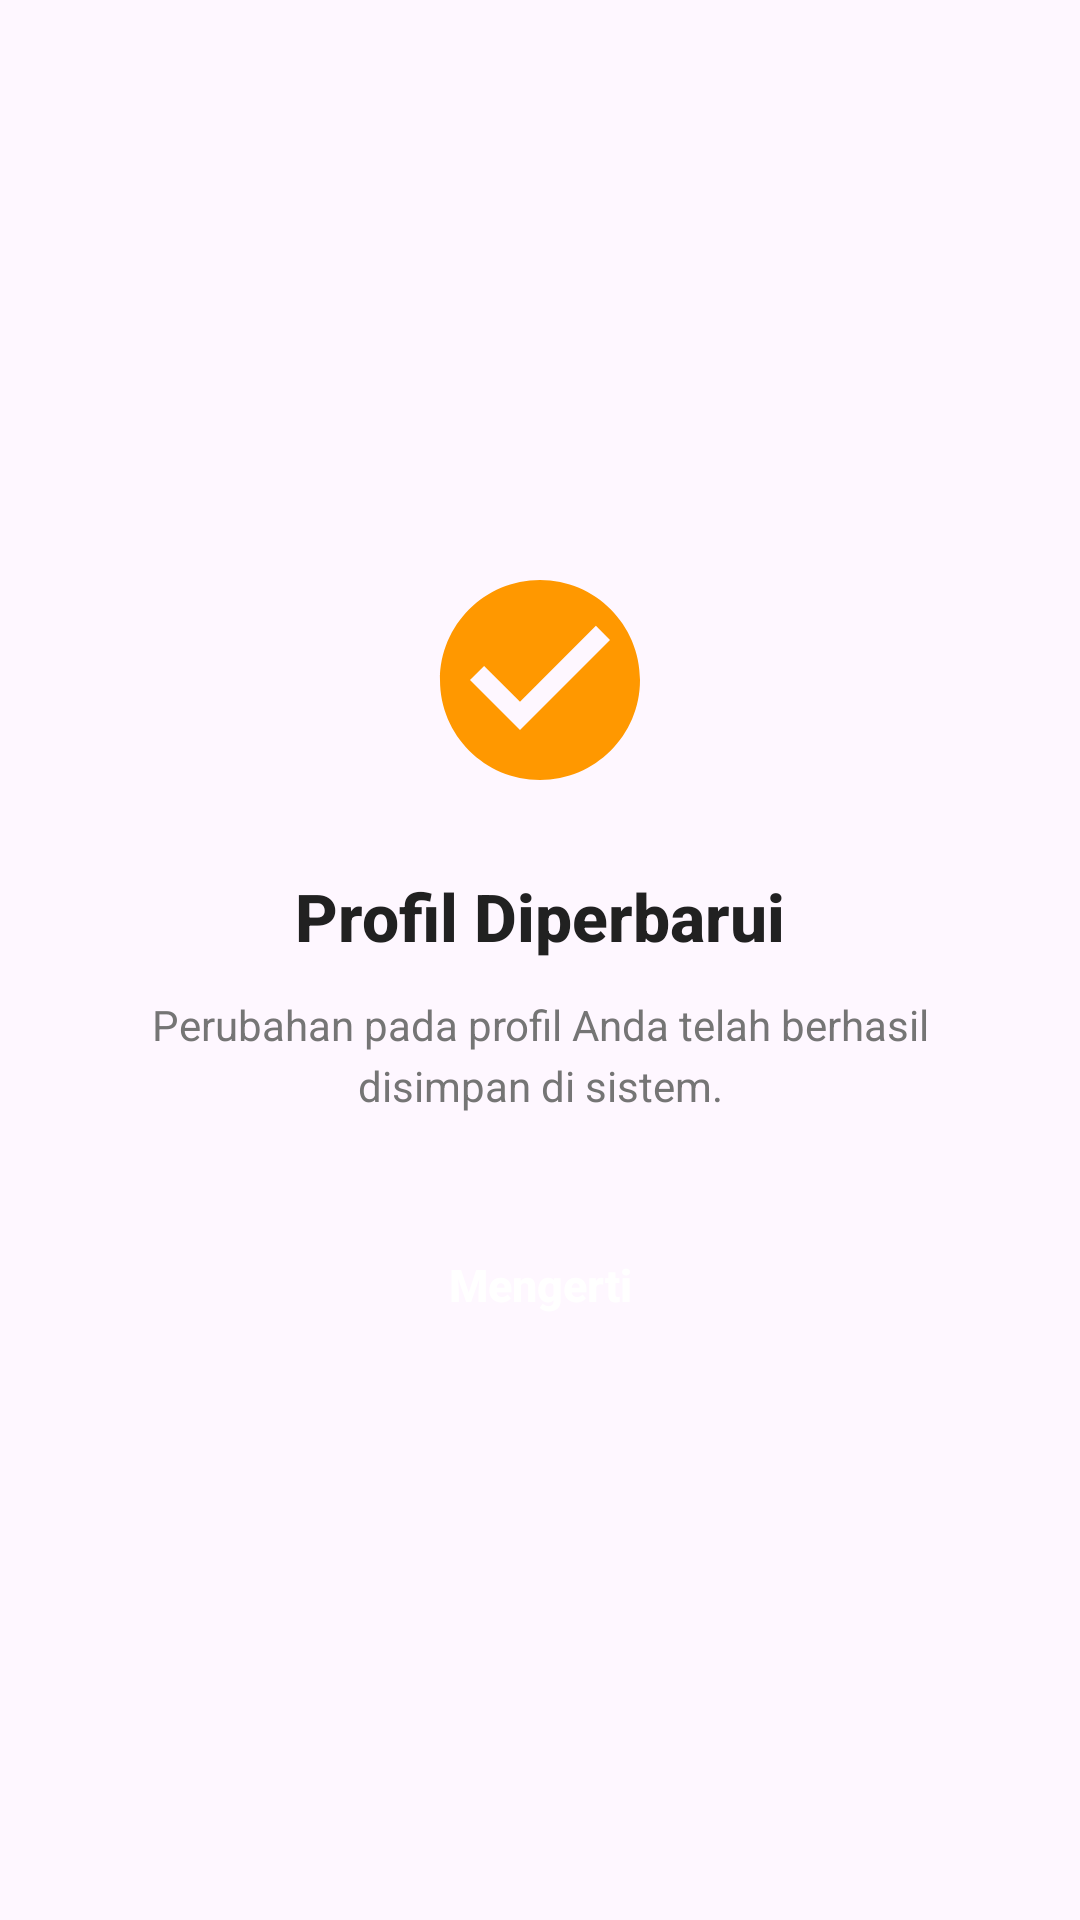

Where icons sit on this 1080w x 1920h app screen, as (x1, y1, x2, y2):
Success: (439, 580, 640, 780)
